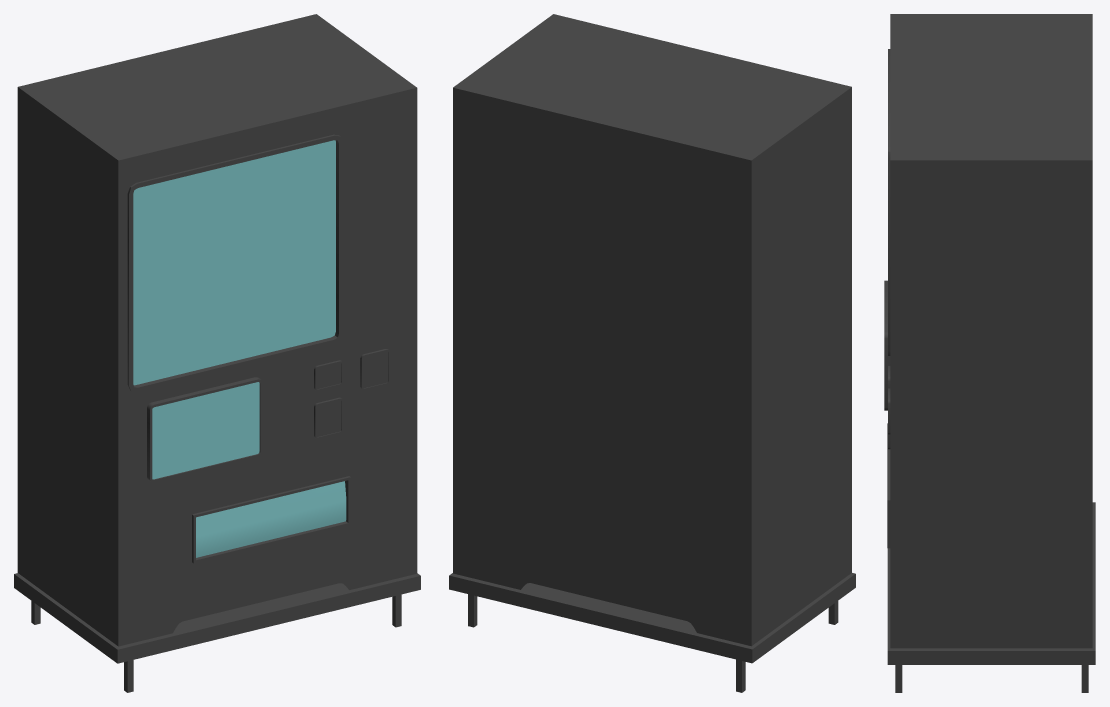
The model's file is SM_vendingmachine_02.fbx.
3 renders of one model, left to right at view 1: azimuth 30°, elevation 25°; view 2: azimuth 150°, elevation 25°; view 3: azimuth 270°, elevation 25°, orthographic.
Parts seen in each view (by area): view 1: Object32308; view 2: Object32308; view 3: Object32308.
Boxes of the visible parts, bbox=[...] form: Object32308: bbox=[14, 14, 420, 692]; Object32308: bbox=[449, 14, 855, 692]; Object32308: bbox=[884, 14, 1095, 692].
Size of the model in its own units: 47.43 by 80.24 by 28.47.
